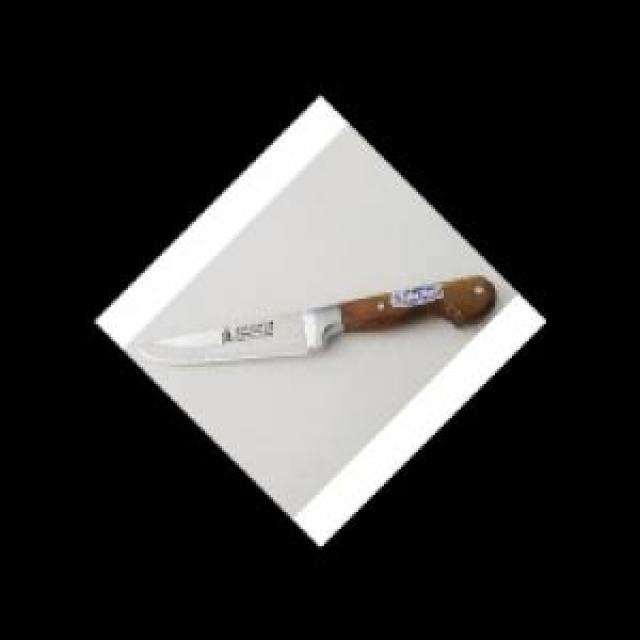knife: (143, 275, 495, 368)
